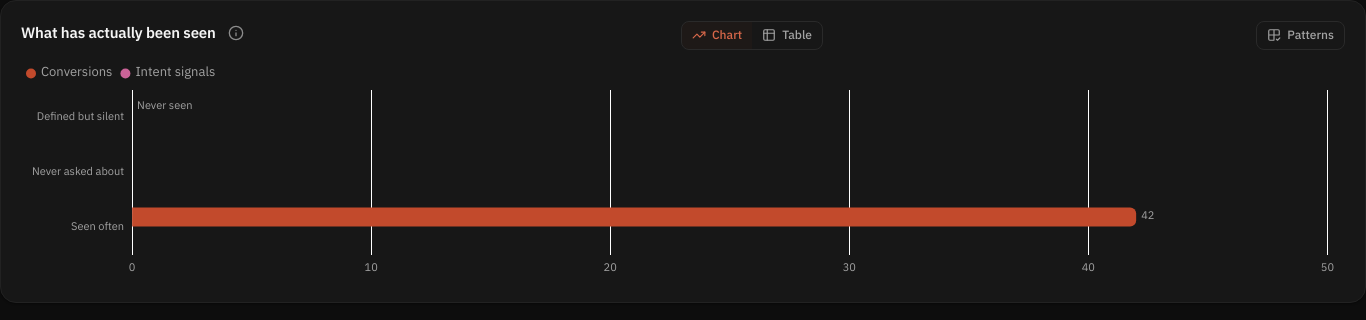
Test: what has actually been seen › tells never-seen apart from not-counted
This screenshot has width=1366, height=320.
Step 1. Click the button "Table" → (787, 35), box [752,22,822,49]
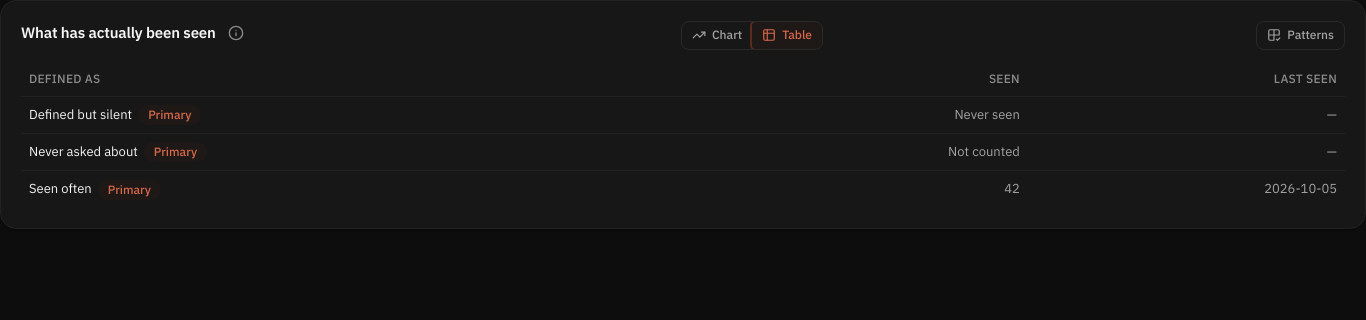
Result: the text "42" is shown at [714,171,1028,208]
Result: the text "Never seen" is shown at [714,97,1028,134]
Result: the text "Not counted" is shown at [714,134,1028,171]
